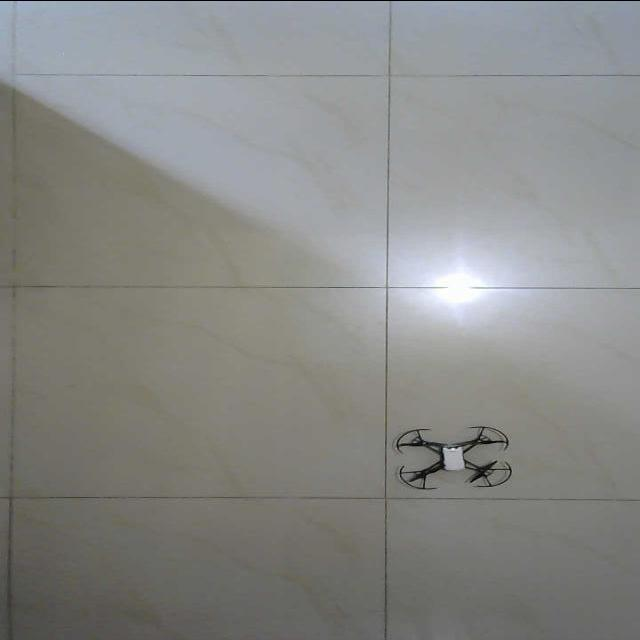drone: (397, 426, 515, 491)
